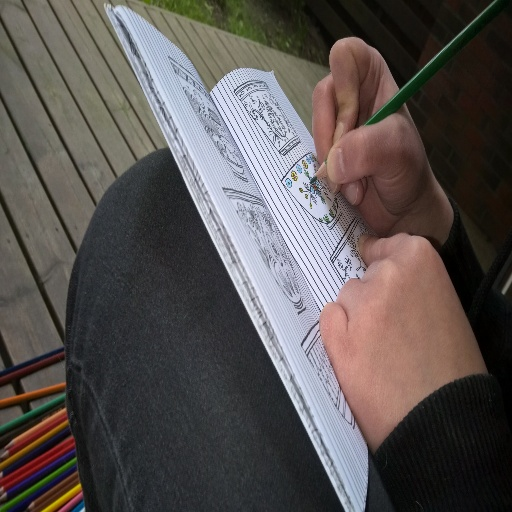hand: (316, 225, 492, 455), (312, 36, 428, 237)
